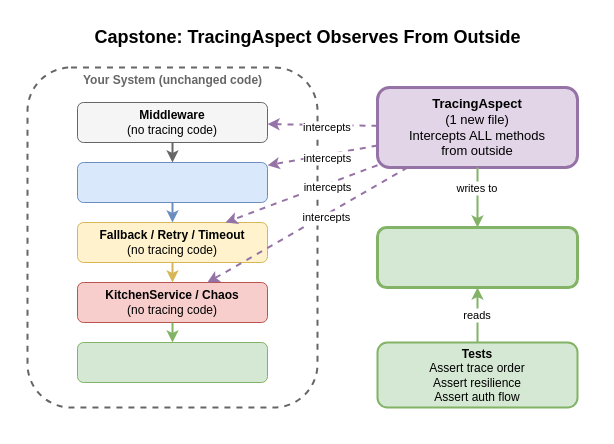
Image size: 614x444. Some labels were removed from this diagram. The centre of each missing label's shape, as x and y in pixels:
"OrderService (no tracing code)" goes at [172,182].
"Repository (no tracing code)" goes at [172,362].
"TraceCollector Test-only: records steps Not in production" goes at [477,257].
